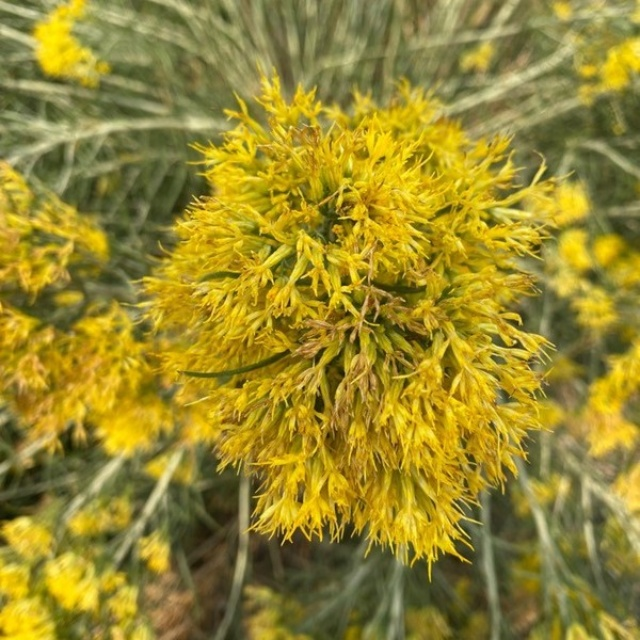obstacle: (147, 65, 574, 548)
